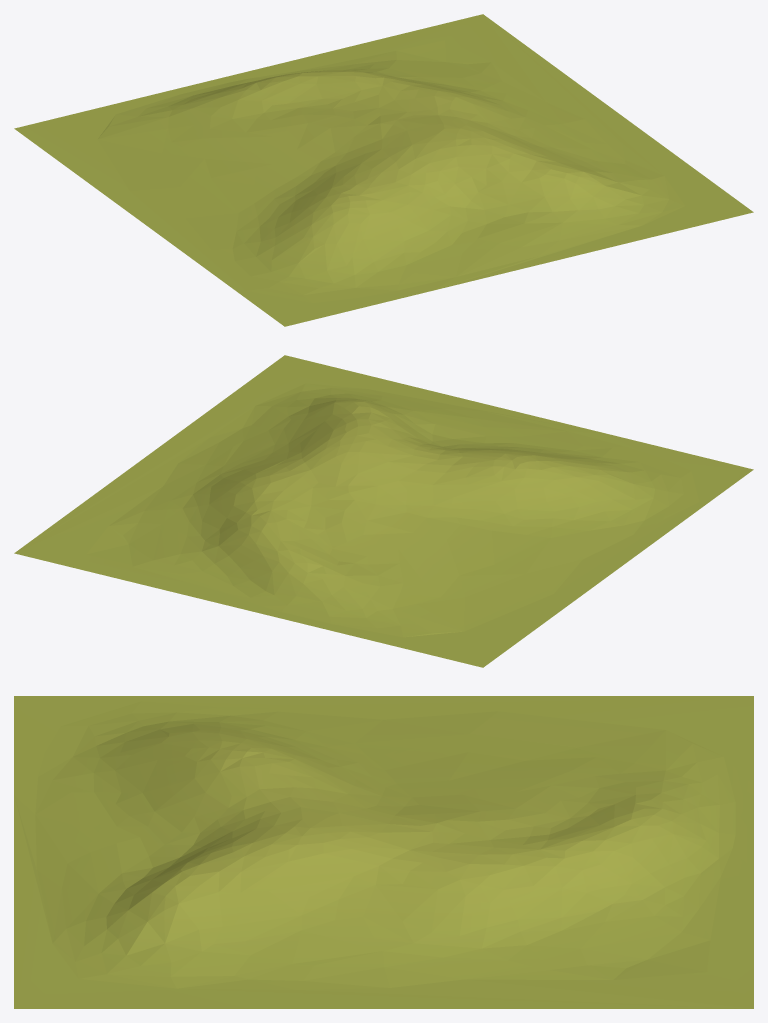
The model's file is Terrain_38.glb.
3 views of the same model, one above another, from view 1: azimuth 30°, elevation 25°; view 2: azimuth 150°, elevation 25°; view 3: azimuth 270°, elevation 25° (orthographic). The views are drawn at different scales.
Visible parts, largest first — view 1: Terrain_38; view 2: Terrain_38; view 3: Terrain_38.
Part boxes in pixels (<box>): Terrain_38: <box>14,14,753,326</box>; Terrain_38: <box>14,355,753,667</box>; Terrain_38: <box>14,696,753,1008</box>.
Size of the model in its own units: 128 by 10.66 by 128.
1 material, 1 textured.
